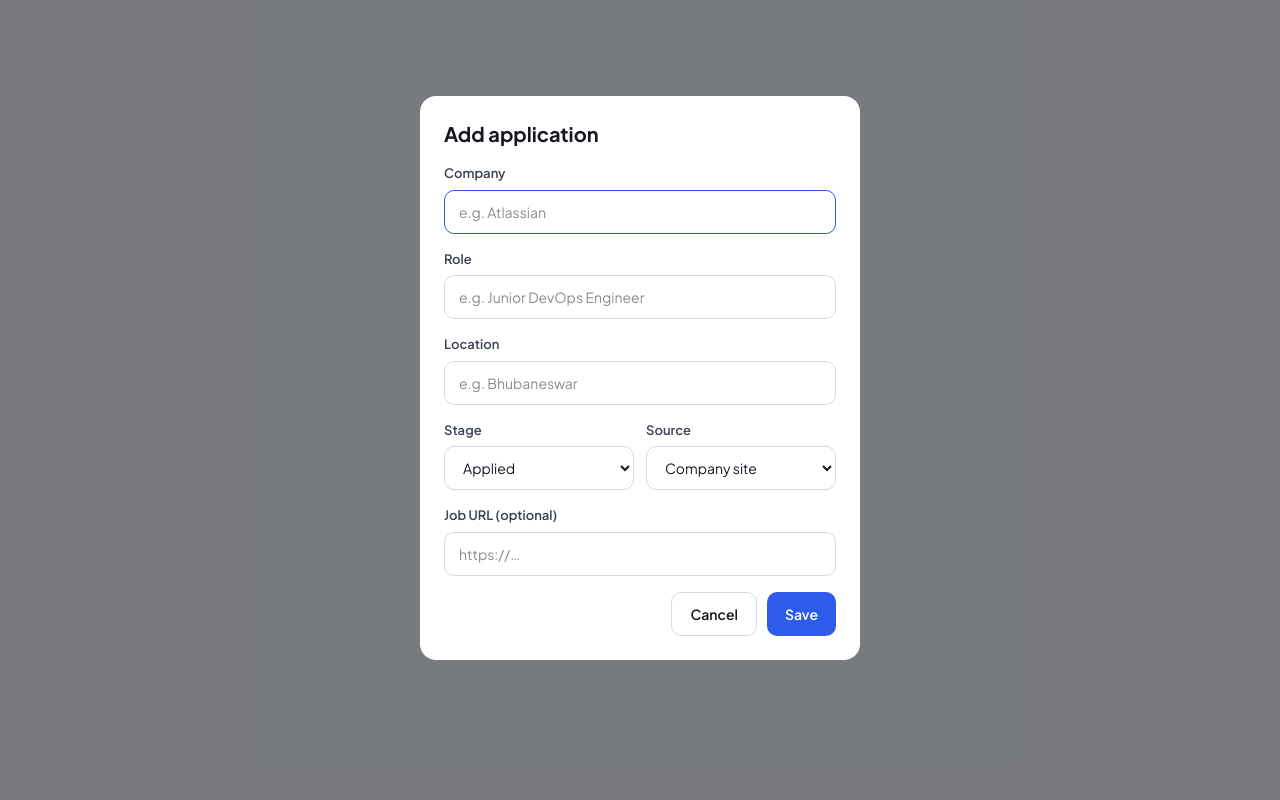
Test case: AddApplicationModal › shows validation errors and sends nothing when required fields are empty
Click the button "Save": [802, 614] box [767,592,836,636]
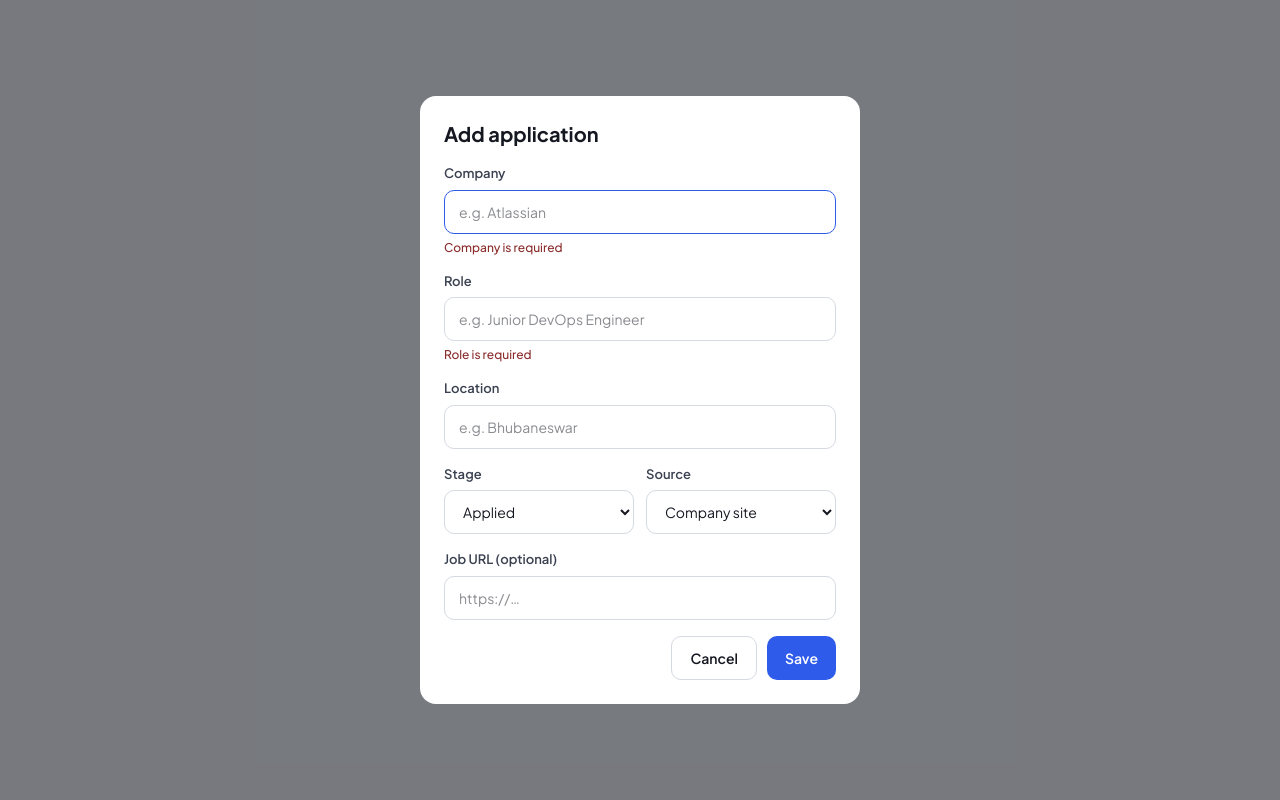
Now the text "Company is required" is shown, box [444,240,563,254]
Now the text "Role is required" is shown, box [444,347,532,362]
